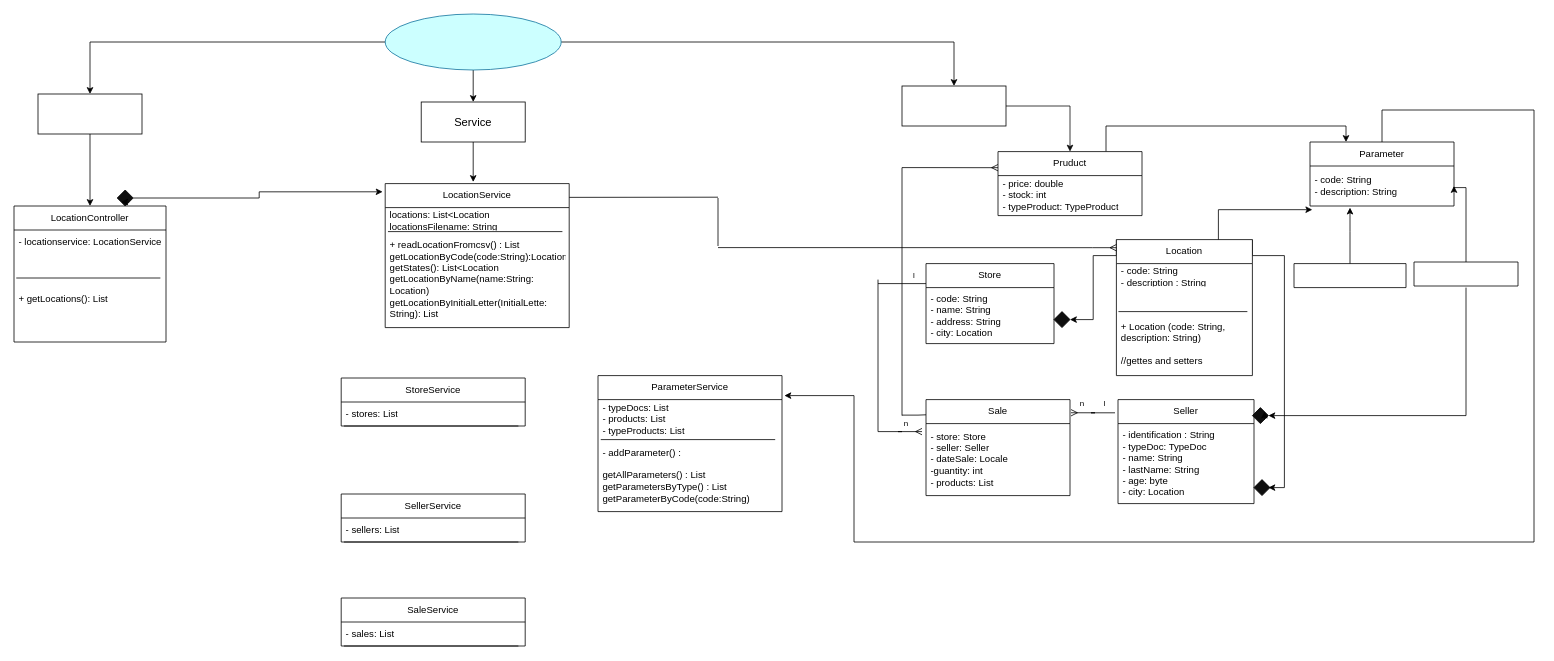
This 1554x661 diagram has some shape labels left out. Here are the shapes that lost their labels. From the top down, the centre of each, then its label:
At (x=472, y=41): "MYFIRSAPII2".
At (x=89, y=113): "Controller".
At (x=953, y=105): "Model".
At (x=1349, y=275): "TypeProduct".
At (x=1465, y=273): "TypeDoc".
